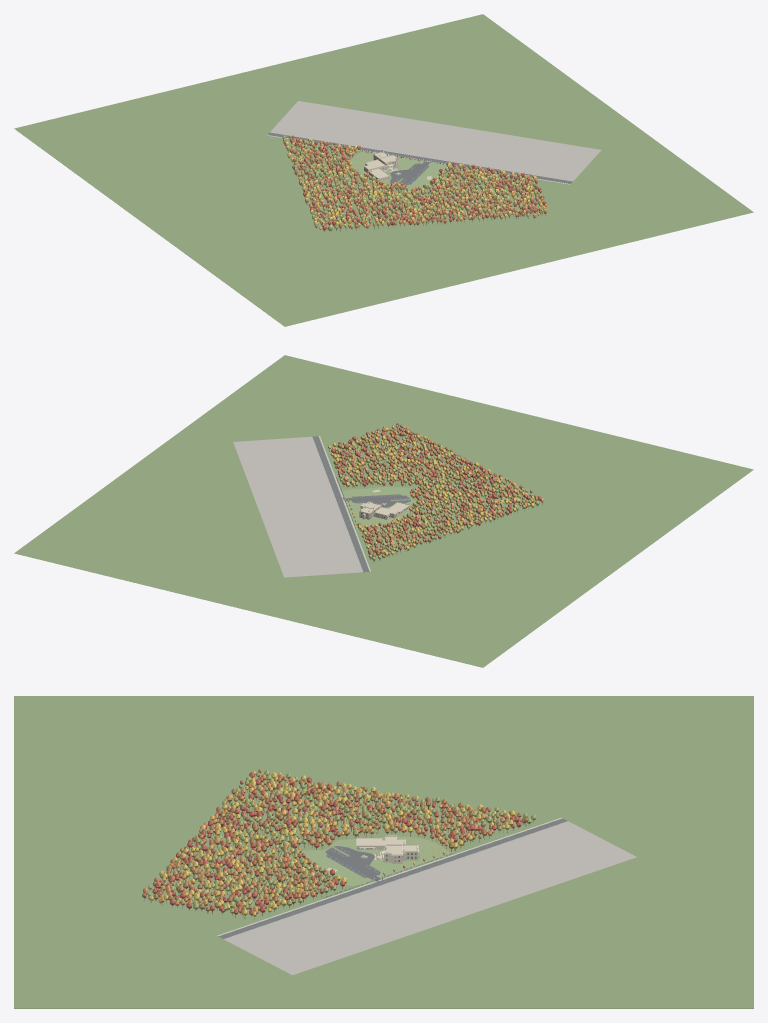
Rendered from Masjid-Mawaid-Barney-Rd.glb.
3 renders of one model, top to bottom at view 1: azimuth 30°, elevation 25°; view 2: azimuth 150°, elevation 25°; view 3: azimuth 270°, elevation 25°, orthographic. The views are drawn at different scales.
Parts seen in each view (by area): view 1: ground, neighbouring_yard, woods_canopy_1, woods_canopy_2, woods_canopy_3, woods_canopy_4, woods_canopy_0, lawn, woods_trunks, barney_rd; view 2: ground, neighbouring_yard, woods_canopy_2, woods_canopy_1, woods_canopy_4, woods_canopy_3, woods_canopy_0, lawn, barney_rd, woods_trunks; view 3: ground, neighbouring_yard, woods_canopy_2, woods_canopy_1, woods_canopy_4, woods_canopy_3, woods_canopy_0, lawn, barney_rd, woods_trunks, parking_lot.
Part boxes in pixels (x1,y1,x2,y2): ground: (14,14,753,326); neighbouring_yard: (270,101,601,181); woods_canopy_1: (285,137,546,230); woods_canopy_2: (285,138,545,229); woods_canopy_3: (283,135,542,230); woods_canopy_4: (282,135,546,230); woods_canopy_0: (293,138,547,228); lawn: (350,151,446,192); woods_trunks: (288,142,545,231); barney_rd: (268,132,572,183); ground: (14,355,753,667); neighbouring_yard: (233,436,362,577); woods_canopy_2: (328,426,543,556); woods_canopy_1: (331,423,541,555); woods_canopy_4: (333,425,539,560); woods_canopy_3: (334,424,543,557); woods_canopy_0: (332,426,537,553); lawn: (341,487,417,529); barney_rd: (312,436,369,572); woods_trunks: (329,427,542,562); ground: (14,696,753,1008); neighbouring_yard: (224,821,636,975); woods_canopy_2: (143,771,515,916); woods_canopy_1: (142,772,521,915); woods_canopy_4: (148,770,535,913); woods_canopy_3: (144,769,527,911); woods_canopy_0: (143,772,521,914); lawn: (301,836,453,886); barney_rd: (218,818,567,938); woods_trunks: (144,776,533,919); parking_lot: (325,846,380,878).
Size of the model in its own units: 792 by 15.79 by 792.
